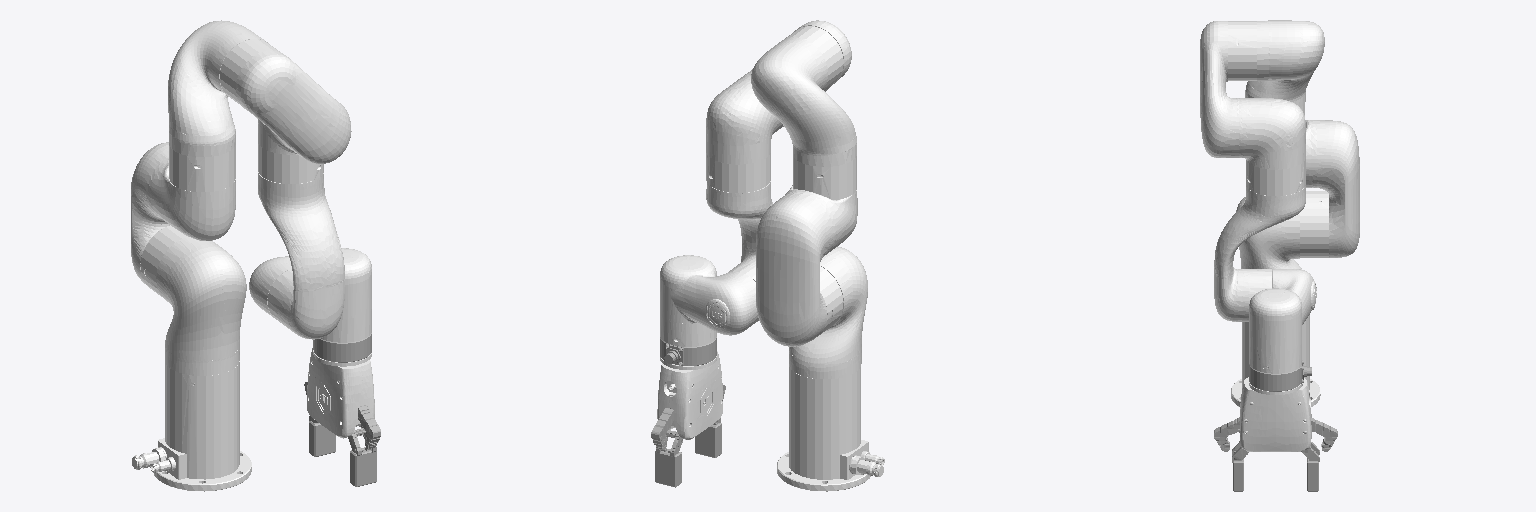
The robot description file, URDF, robot "UF_ROBOT":
<robot name="UF_ROBOT">
  
  <material name="Black">
    <color rgba="0.0 0.0 0.0 1.0" />
  </material>
  <material name="Red">
    <color rgba="0.8 0.0 0.0 1.0" />
  </material>
  <material name="White">
    <color rgba="1.0 1.0 1.0 1.0" />
  </material>
  <material name="Silver">
    <color rgba="0.753 0.753 0.753 1.0" />
  </material>
  <link name="world" />
  <joint name="world_joint" type="fixed">
    <parent link="world" />
    <child link="link_base" />
    <origin rpy="0 0 0" xyz="0 0 0" />
  </joint>
  <link name="link_base">
    <inertial>
      <origin rpy="0 0 0" xyz="-0.021131 -0.0016302 0.056488" />
      <mass value="0.88556" />
      <inertia ixx="0.0030595" ixy="0.00012259" ixz="-0.00062705" iyy="0.0037783" iyz="0.00027023" izz="0.0020125" />
    </inertial>
    <visual>
      <geometry>
        <mesh filename="urdf_assets/xarm_description/meshes/xarm7/visual/link_base.stl" />
      </geometry>
      <origin rpy="0 0 0" xyz="0 0 0" />
      <material name="White" />
    </visual>
    <collision>
      <geometry>
        <mesh filename="urdf_assets/xarm_description/meshes/xarm7/collision/link_base.obj" />
      </geometry>
      <origin rpy="0 0 0" xyz="0 0 0" />
    </collision>
  </link>
  <link name="link1">
    <inertial>
      <origin rpy="0 0 0" xyz="-0.0002 0.02905 -0.01233" />
      <mass value="2.382" />
      <inertia ixx="0.0056905" ixy="-1.579e-05" ixz="5.125e-06" iyy="0.0049566" iyz="-0.000873378" izz="0.003316654" />
    </inertial>
    <visual>
      <geometry>
        <mesh filename="urdf_assets/xarm_description/meshes/xarm7/visual/link1.stl" />
      </geometry>
      <origin rpy="0 0 0" xyz="0 0 0" />
      <material name="White" />
    </visual>
    <collision>
      <geometry>
        <mesh filename="urdf_assets/xarm_description/meshes/xarm7/collision/link1.obj" />
      </geometry>
      <origin rpy="0 0 0" xyz="0 0 0" />
    </collision>
  </link>
  <joint name="joint1" type="revolute">
    <origin rpy="0 0 0" xyz="0 0 0.267" />
    <parent link="link_base" />
    <child link="link1" />
    <axis xyz="0 0 1" />
    <limit effort="50" lower="-6.28318530718" upper="6.28318530718" velocity="3.14" />
    <dynamics damping="10" friction="1" />
  </joint>
  <link name="link2">
    <inertial>
      <origin rpy="0 0 0" xyz="0.00022 -0.12856 0.01735" />
      <mass value="1.869" />
      <inertia ixx="0.0095989" ixy="1.541e-06" ixz="5.56e-06" iyy="0.00382472" iyz="-0.00317156" izz="0.007565669" />
    </inertial>
    <visual>
      <geometry>
        <mesh filename="urdf_assets/xarm_description/meshes/xarm7/visual/link2.stl" />
      </geometry>
      <origin rpy="0 0 0" xyz="0 0 0" />
      <material name="White" />
    </visual>
    <collision>
      <geometry>
        <mesh filename="urdf_assets/xarm_description/meshes/xarm7/collision/link2.obj" />
      </geometry>
      <origin rpy="0 0 0" xyz="0 0 0" />
    </collision>
  </link>
  <joint name="joint2" type="revolute">
    <origin rpy="-1.5708 0 0" xyz="0 0 0" />
    <parent link="link1" />
    <child link="link2" />
    <axis xyz="0 0 1" />
    <limit effort="50" lower="-2.059" upper="2.0944" velocity="3.14" />
    <dynamics damping="10" friction="1" />
  </joint>
  <link name="link3">
    <inertial>
      <origin rpy="0 0 0" xyz="0.0466 -0.02463 -0.00768" />
      <mass value="1.6383" />
      <inertia ixx="0.00310955" ixy="0.00030837" ixz="-0.00058453" iyy="0.00264483" iyz="0.000338893" izz="0.0026624" />
    </inertial>
    <visual>
      <geometry>
        <mesh filename="urdf_assets/xarm_description/meshes/xarm7/visual/link3.stl" />
      </geometry>
      <origin rpy="0 0 0" xyz="0 0 0" />
      <material name="White" />
    </visual>
    <collision>
      <geometry>
        <mesh filename="urdf_assets/xarm_description/meshes/xarm7/collision/link3.obj" />
      </geometry>
      <origin rpy="0 0 0" xyz="0 0 0" />
    </collision>
  </link>
  <joint name="joint3" type="revolute">
    <origin rpy="1.5708 0 0" xyz="0 -0.293 0" />
    <parent link="link2" />
    <child link="link3" />
    <axis xyz="0 0 1" />
    <limit effort="30" lower="-6.28318530718" upper="6.28318530718" velocity="3.14" />
    <dynamics damping="5" friction="1" />
  </joint>
  <link name="link4">
    <inertial>
      <origin rpy="0 0 0" xyz="0.07047 -0.11575 0.012" />
      <mass value="1.7269" />
      <inertia ixx="0.005889" ixy="0.00137112" ixz="0.00088143" iyy="0.00359703" iyz="-0.001762155" izz="0.00543244" />
    </inertial>
    <visual>
      <geometry>
        <mesh filename="urdf_assets/xarm_description/meshes/xarm7/visual/link4.stl" />
      </geometry>
      <origin rpy="0 0 0" xyz="0 0 0" />
      <material name="White" />
    </visual>
    <collision>
      <geometry>
        <mesh filename="urdf_assets/xarm_description/meshes/xarm7/collision/link4.obj" />
      </geometry>
      <origin rpy="0 0 0" xyz="0 0 0" />
    </collision>
  </link>
  <joint name="joint4" type="revolute">
    <origin rpy="1.5708 0 0" xyz="0.0525 0 0" />
    <parent link="link3" />
    <child link="link4" />
    <axis xyz="0 0 1" />
    <limit effort="30" lower="-0.19198" upper="3.927" velocity="3.14" />
    <dynamics damping="5" friction="1" />
  </joint>
  <link name="link5">
    <inertial>
      <origin rpy="0 0 0" xyz="-0.00032 0.01604 -0.026" />
      <mass value="1.3203" />
      <inertia ixx="0.00534665" ixy="1.5117e-05" ixz="-3.69e-07" iyy="0.0049779" iyz="-0.00022132" izz="0.0013624" />
    </inertial>
    <visual>
      <geometry>
        <mesh filename="urdf_assets/xarm_description/meshes/xarm7/visual/link5.stl" />
      </geometry>
      <origin rpy="0 0 0" xyz="0 0 0" />
      <material name="White" />
    </visual>
    <collision>
      <geometry>
        <mesh filename="urdf_assets/xarm_description/meshes/xarm7/collision/link5.obj" />
      </geometry>
      <origin rpy="0 0 0" xyz="0 0 0" />
    </collision>
  </link>
  <joint name="joint5" type="revolute">
    <origin rpy="1.5708 0 0" xyz="0.0775 -0.3425 0" />
    <parent link="link4" />
    <child link="link5" />
    <axis xyz="0 0 1" />
    <limit effort="30" lower="-6.28318530718" upper="6.28318530718" velocity="3.14" />
    <dynamics damping="5" friction="1" />
  </joint>
  <link name="link6">
    <inertial>
      <origin rpy="0 0 0" xyz="0.06469 0.03278 0.02141" />
      <mass value="1.325" />
      <inertia ixx="0.0014745" ixy="-0.000488" ixz="0.0002953" iyy="0.0019037" iyz="0.00014749" izz="0.0023652" />
    </inertial>
    <visual>
      <geometry>
        <mesh filename="urdf_assets/xarm_description/meshes/xarm7/visual/link6.stl" />
      </geometry>
      <origin rpy="0 0 0" xyz="0 0 0" />
      <material name="White" />
    </visual>
    <collision>
      <geometry>
        <mesh filename="urdf_assets/xarm_description/meshes/xarm7/collision/link6.obj" />
      </geometry>
      <origin rpy="0 0 0" xyz="0 0 0" />
    </collision>
  </link>
  <joint name="joint6" type="revolute">
    <origin rpy="1.5708 0 0" xyz="0 0 0" />
    <parent link="link5" />
    <child link="link6" />
    <axis xyz="0 0 1" />
    <limit effort="20" lower="-1.69297" upper="3.14159265359" velocity="3.14" />
    <dynamics damping="2" friction="1" />
  </joint>
  <link name="link7">
    <inertial>
      <origin rpy="0 0 0" xyz="0 -0.00677 -0.01098" />
      <mass value="0.17" />
      <inertia ixx="9.3e-05" ixy="-0.0" ixz="-0.0" iyy="5.87e-05" iyz="-3.6e-06" izz="0.000132" />
    </inertial>
    <visual>
      <geometry>
        <mesh filename="urdf_assets/xarm_description/meshes/xarm7/visual/link7.stl" />
      </geometry>
      <origin rpy="0 0 0" xyz="0 0 0" />
      <material name="Silver" />
    </visual>
    <collision>
      <geometry>
        <mesh filename="urdf_assets/xarm_description/meshes/xarm7/collision/link7.obj" />
      </geometry>
      <origin rpy="0 0 0" xyz="0 0 0" />
    </collision>
  </link>
  <joint name="joint7" type="revolute">
    <origin rpy="-1.5708 0 0" xyz="0.076 0.097 0" />
    <parent link="link6" />
    <child link="link7" />
    <axis xyz="0 0 1" />
    <limit effort="20" lower="-6.28318530718" upper="6.28318530718" velocity="3.14" />
    <dynamics damping="2" friction="1" />
  </joint>
  
  <transmission name="tran1">
    <type>transmission_interface/SimpleTransmission</type>
    <joint name="joint1">
      <hardwareInterface>hardware_interface/PositionJointInterface</hardwareInterface>
    </joint>
    <actuator name="motor1">
      <hardwareInterface>hardware_interface/PositionJointInterface</hardwareInterface>
      <mechanicalReduction>100</mechanicalReduction>
    </actuator>
  </transmission>
  <transmission name="tran2">
    <type>transmission_interface/SimpleTransmission</type>
    <joint name="joint2">
      <hardwareInterface>hardware_interface/PositionJointInterface</hardwareInterface>
    </joint>
    <actuator name="motor2">
      <hardwareInterface>hardware_interface/PositionJointInterface</hardwareInterface>
      <mechanicalReduction>100</mechanicalReduction>
    </actuator>
  </transmission>
  <transmission name="tran3">
    <type>transmission_interface/SimpleTransmission</type>
    <joint name="joint3">
      <hardwareInterface>hardware_interface/PositionJointInterface</hardwareInterface>
    </joint>
    <actuator name="motor3">
      <hardwareInterface>hardware_interface/PositionJointInterface</hardwareInterface>
      <mechanicalReduction>100</mechanicalReduction>
    </actuator>
  </transmission>
  <transmission name="tran4">
    <type>transmission_interface/SimpleTransmission</type>
    <joint name="joint4">
      <hardwareInterface>hardware_interface/PositionJointInterface</hardwareInterface>
    </joint>
    <actuator name="motor4">
      <hardwareInterface>hardware_interface/PositionJointInterface</hardwareInterface>
      <mechanicalReduction>100</mechanicalReduction>
    </actuator>
  </transmission>
  <transmission name="tran5">
    <type>transmission_interface/SimpleTransmission</type>
    <joint name="joint5">
      <hardwareInterface>hardware_interface/PositionJointInterface</hardwareInterface>
    </joint>
    <actuator name="motor5">
      <hardwareInterface>hardware_interface/PositionJointInterface</hardwareInterface>
      <mechanicalReduction>100</mechanicalReduction>
    </actuator>
  </transmission>
  <transmission name="tran6">
    <type>transmission_interface/SimpleTransmission</type>
    <joint name="joint6">
      <hardwareInterface>hardware_interface/PositionJointInterface</hardwareInterface>
    </joint>
    <actuator name="motor6">
      <hardwareInterface>hardware_interface/PositionJointInterface</hardwareInterface>
      <mechanicalReduction>100</mechanicalReduction>
    </actuator>
  </transmission>
  <transmission name="tran7">
    <type>transmission_interface/SimpleTransmission</type>
    <joint name="joint7">
      <hardwareInterface>hardware_interface/PositionJointInterface</hardwareInterface>
    </joint>
    <actuator name="motor7">
      <hardwareInterface>hardware_interface/PositionJointInterface</hardwareInterface>
      <mechanicalReduction>100</mechanicalReduction>
    </actuator>
  </transmission>
  <gazebo reference="link_base">
    <selfCollide>true</selfCollide>
  </gazebo>
  <gazebo reference="link1">
    <selfCollide>true</selfCollide>
  </gazebo>
  <gazebo reference="link2">
    <selfCollide>true</selfCollide>
  </gazebo>
  <gazebo reference="link3">
    <selfCollide>true</selfCollide>
  </gazebo>
  <gazebo reference="link4">
    <selfCollide>true</selfCollide>
  </gazebo>
  <gazebo reference="link5">
    <selfCollide>true</selfCollide>
  </gazebo>
  <gazebo reference="link6">
    <selfCollide>true</selfCollide>
  </gazebo>
  <gazebo reference="link7">
    <selfCollide>true</selfCollide>
  </gazebo>
  <link name="link_eef" />
  
  <joint name="joint_eef" type="fixed">
    <origin rpy="0 0 0" xyz="0 0 0" />
    <parent link="link7" />
    <child link="link_eef" />
  </joint>
  
  <joint name="gripper_fix" type="fixed">
    <parent link="link_eef" />
    <child link="xarm_gripper_base_link" />
    <origin rpy="0 0 0" xyz="0 0 0" />
  </joint>
  <link name="xarm_gripper_base_link">
    <inertial>
      <origin rpy="0 0 0" xyz="-0.00065489 -0.0018497 0.048028" />
      <mass value="0.54156" />
      <inertia ixx="0.00047106" ixy="3.9292E-07" ixz="2.6537E-06" iyy="0.00033072" iyz="-1.0975E-05" izz="0.00025642" />
    </inertial>
    <visual>
      <geometry>
        <mesh filename="urdf_assets/xarm_gripper/meshes/base_link.stl" />
      </geometry>
      <origin rpy="0 0 0" xyz="0 0 0" />
      <material name="White" />
    </visual>
    <collision>
      <geometry>
        <mesh filename="urdf_assets/xarm_gripper/meshes/base_link.stl" />
      </geometry>
      <origin rpy="0 0 0" xyz="0 0 0" />
    </collision>
  </link>
  <link name="left_outer_knuckle">
    <inertial>
      <origin rpy="0 0 0" xyz="2.9948E-14 0.021559 0.015181" />
      <mass value="0.033618" />
      <inertia ixx="1.9111E-05" ixy="-1.8803E-17" ixz="-1.1002E-17" iyy="6.6256E-06" iyz="-7.3008E-06" izz="1.3185E-05" />
    </inertial>
    <visual>
      <geometry>
        <mesh filename="urdf_assets/xarm_gripper/meshes/left_outer_knuckle.stl" />
      </geometry>
      <origin rpy="0 0 0" xyz="0 0 0" />
      <material name="Silver" />
    </visual>
    <collision>
      <geometry>
        <mesh filename="urdf_assets/xarm_gripper/meshes/left_outer_knuckle.stl" />
      </geometry>
      <origin rpy="0 0 0" xyz="0 0 0" />
    </collision>
  </link>
  
  <joint name="drive_joint" type="revolute">
    <origin rpy="0 0 0" xyz="0 0.035 0.059098" />
    <parent link="xarm_gripper_base_link" />
    <child link="left_outer_knuckle" />
    <axis xyz="1 0 0" />
    <limit effort="50" lower="0" upper="0.85" velocity="2" />
  </joint>
  <link name="left_finger">
    <contact>
      <friction_anchor />
      <stiffness value="30000.0" />
      <damping value="1000.0" />
      <spinning_friction value="0.1" />
      <lateral_friction value="1.0" />
    </contact>
    <inertial>
      <origin rpy="0 0 0" xyz="-2.4536E-14 -0.016413 0.029258" />
      <mass value="0.048304" />
      <inertia ixx="1.7493E-05" ixy="-4.2156E-19" ixz="6.9164E-18" iyy="1.7225E-05" iyz="4.6433E-06" izz="5.1466E-06" />
    </inertial>
    <visual>
      <geometry>
        <mesh filename="urdf_assets/xarm_gripper/meshes/left_finger_large_2.stl" />
      </geometry>
      <origin rpy="0 0 0" xyz="0 0 0" />
      <material name="Silver" />
    </visual>
    <collision>
      <geometry>
        <mesh filename="urdf_assets/xarm_gripper/meshes/left_finger_large_2.stl" />
      </geometry>
      <origin rpy="0 0 0" xyz="0 0 0" />
    </collision>
  </link>
  
  <joint name="left_finger_joint" type="revolute">
    <origin rpy="0 0 0" xyz="0 0.035465 0.042039" />
    <parent link="left_outer_knuckle" />
    <child link="left_finger" />
    <axis xyz="-1 0 0" />
    <limit effort="50" lower="0" upper="0.85" velocity="2" />
    <mimic joint="drive_joint" multiplier="1" offset="0" />
  </joint>
  <link name="left_inner_knuckle">
    <inertial>
      <origin rpy="0 0 0" xyz="1.86600784687907E-06 0.0220467847633621 0.0261334672830885" />
      <mass value="0.0230125781256706" />
      <inertia ixx="6.09490024271906E-06" ixy="6.06651326160071E-11" ixz="7.19102670500635E-11" iyy="6.01955084375188E-06" iyz="-2.75316812991721E-06" izz="5.07862004479903E-06" />
    </inertial>
    <visual>
      <geometry>
        <mesh filename="urdf_assets/xarm_gripper/meshes/left_inner_knuckle.stl" />
      </geometry>
      <origin rpy="0 0 0" xyz="0 0 0" />
      <material name="Silver" />
    </visual>
    <collision>
      <geometry>
        <mesh filename="urdf_assets/xarm_gripper/meshes/left_inner_knuckle.stl" />
      </geometry>
      <origin rpy="0 0 0" xyz="0 0 0" />
    </collision>
  </link>
  
  <joint name="left_inner_knuckle_joint" type="revolute">
    <origin rpy="0 0 0" xyz="0 0.02 0.074098" />
    <parent link="xarm_gripper_base_link" />
    <child link="left_inner_knuckle" />
    <axis xyz="1 0 0" />
    <limit effort="50" lower="0" upper="0.85" velocity="2" />
    <mimic joint="drive_joint" multiplier="1" offset="0" />
  </joint>
  <link name="right_outer_knuckle">
    <inertial>
      <origin rpy="0 0 0" xyz="-3.1669E-14 -0.021559 0.015181" />
      <mass value="0.033618" />
      <inertia ixx="1.9111E-05" ixy="-1.8789E-17" ixz="1.0986E-17" iyy="6.6256E-06" iyz="7.3008E-06" izz="1.3185E-05" />
    </inertial>
    <visual>
      <geometry>
        <mesh filename="urdf_assets/xarm_gripper/meshes/right_outer_knuckle.stl" />
      </geometry>
      <origin rpy="0 0 0" xyz="0 0 0" />
      <material name="Silver" />
    </visual>
    <collision>
      <geometry>
        <mesh filename="urdf_assets/xarm_gripper/meshes/right_outer_knuckle.stl" />
      </geometry>
      <origin rpy="0 0 0" xyz="0 0 0" />
    </collision>
  </link>
  
  <joint name="right_outer_knuckle_joint" type="revolute">
    <origin rpy="0 0 0" xyz="0 -0.035 0.059098" />
    <parent link="xarm_gripper_base_link" />
    <child link="right_outer_knuckle" />
    <axis xyz="-1 0 0" />
    <limit effort="50" lower="0" upper="0.85" velocity="2" />
    <mimic joint="drive_joint" multiplier="1" offset="0" />
  </joint>
  <link name="right_finger">
    <contact>
      <friction_anchor />
      <stiffness value="30000.0" />
      <damping value="1000.0" />
      <spinning_friction value="0.1" />
      <lateral_friction value="1.0" />
    </contact>
    <inertial>
      <origin rpy="0 0 0" xyz="2.5618E-14 0.016413 0.029258" />
      <mass value="0.048304" />
      <inertia ixx="1.7493E-05" ixy="-5.0014E-19" ixz="-7.5079E-18" iyy="1.7225E-05" iyz="-4.6435E-06" izz="5.1466E-06" />
    </inertial>
    <visual>
      <geometry>
        <mesh filename="urdf_assets/xarm_gripper/meshes/right_finger_large_2.stl" />
      </geometry>
      <origin rpy="0 0 0" xyz="0 0 0" />
      <material name="Silver" />
    </visual>
    <collision>
      <geometry>
        <mesh filename="urdf_assets/xarm_gripper/meshes/right_finger_large_2.stl" />
      </geometry>
      <origin rpy="0 0 0" xyz="0 0 0" />
    </collision>
  </link>
  
  <joint name="right_finger_joint" type="revolute">
    <origin rpy="0 0 0" xyz="0 -0.035465 0.042039" />
    <parent link="right_outer_knuckle" />
    <child link="right_finger" />
    <axis xyz="1 0 0" />
    <limit effort="50" lower="0" upper="0.85" velocity="2" />
    <mimic joint="drive_joint" multiplier="1" offset="0" />
  </joint>
  <link name="right_inner_knuckle">
    <inertial>
      <origin rpy="0 0 0" xyz="1.866E-06 -0.022047 0.026133" />
      <mass value="0.023013" />
      <inertia ixx="6.0949E-06" ixy="-6.0665E-11" ixz="7.191E-11" iyy="6.0197E-06" iyz="2.7531E-06" izz="5.0784E-06" />
    </inertial>
    <visual>
      <geometry>
        <mesh filename="urdf_assets/xarm_gripper/meshes/right_inner_knuckle.stl" />
      </geometry>
      <origin rpy="0 0 0" xyz="0 0 0" />
      <material name="Silver" />
    </visual>
    <collision>
      <geometry>
        <mesh filename="urdf_assets/xarm_gripper/meshes/right_inner_knuckle.stl" />
      </geometry>
      <origin rpy="0 0 0" xyz="0 0 0" />
    </collision>
  </link>
  
  <joint name="right_inner_knuckle_joint" type="revolute">
    <origin rpy="0 0 0" xyz="0 -0.02 0.074098" />
    <parent link="xarm_gripper_base_link" />
    <child link="right_inner_knuckle" />
    <axis xyz="-1 0 0" />
    <limit effort="50" lower="0" upper="0.85" velocity="2" />
    <mimic joint="drive_joint" multiplier="1" offset="0" />
  </joint>
  <link name="link_tcp" />
  
  <joint name="joint_tcp" type="fixed">
    <origin rpy="0 0 0" xyz="0 0 0.172" />
    <parent link="xarm_gripper_base_link" />
    <child link="link_tcp" />
  </joint>
  <transmission name="drive_joint_trans">
    <type>transmission_interface/SimpleTransmission</type>
    <joint name="drive_joint">
      <hardwareInterface>hardware_interface/PositionJointInterface</hardwareInterface>
    </joint>
    <actuator name="drive_joint_motor">
      <hardwareInterface>hardware_interface/PositionJointInterface</hardwareInterface>
      <mechanicalReduction>1</mechanicalReduction>
    </actuator>
  </transmission>
  <gazebo reference="xarm_gripper_base_link">
    <selfCollide>false</selfCollide>
  </gazebo>
  <gazebo reference="left_outer_knuckle">
    <selfCollide>false</selfCollide>
  </gazebo>
  <gazebo reference="left_finger">
    <selfCollide>false</selfCollide>
  </gazebo>
  <gazebo reference="left_inner_knuckle">
    <selfCollide>false</selfCollide>
  </gazebo>
  <gazebo reference="right_outer_knuckle">
    <selfCollide>false</selfCollide>
  </gazebo>
  <gazebo reference="right_finger">
    <selfCollide>false</selfCollide>
  </gazebo>
  <gazebo reference="right_inner_knuckle">
    <selfCollide>false</selfCollide>
  </gazebo>
  
  <gazebo>
    <plugin filename="libroboticsgroup_gazebo_mimic_joint_plugin.so" name="left_finger_jointmimic_joint_plugin">
      <joint>drive_joint</joint>
      <mimicJoint>left_finger_joint</mimicJoint>
      <multiplier>1.0</multiplier>
      <offset>0</offset>
      <sensitiveness>0.0</sensitiveness>
      
      <maxEffort>10.0</maxEffort>
    </plugin>
  </gazebo>
  
  <gazebo>
    <plugin filename="libroboticsgroup_gazebo_mimic_joint_plugin.so" name="left_inner_knuckle_jointmimic_joint_plugin">
      <joint>drive_joint</joint>
      <mimicJoint>left_inner_knuckle_joint</mimicJoint>
      <multiplier>1.0</multiplier>
      <offset>0</offset>
      <sensitiveness>0.0</sensitiveness>
      
      <maxEffort>10.0</maxEffort>
    </plugin>
  </gazebo>
  
  <gazebo>
    <plugin filename="libroboticsgroup_gazebo_mimic_joint_plugin.so" name="right_outer_knuckle_jointmimic_joint_plugin">
      <joint>drive_joint</joint>
      <mimicJoint>right_outer_knuckle_joint</mimicJoint>
      <multiplier>1.0</multiplier>
      <offset>0</offset>
      <sensitiveness>0.0</sensitiveness>
      
      <maxEffort>10.0</maxEffort>
    </plugin>
  </gazebo>
  
  <gazebo>
    <plugin filename="libroboticsgroup_gazebo_mimic_joint_plugin.so" name="right_finger_jointmimic_joint_plugin">
      <joint>drive_joint</joint>
      <mimicJoint>right_finger_joint</mimicJoint>
      <multiplier>1.0</multiplier>
      <offset>0</offset>
      <sensitiveness>0.0</sensitiveness>
      
      <maxEffort>10.0</maxEffort>
    </plugin>
  </gazebo>
  
  <gazebo>
    <plugin filename="libroboticsgroup_gazebo_mimic_joint_plugin.so" name="right_inner_knuckle_jointmimic_joint_plugin">
      <joint>drive_joint</joint>
      <mimicJoint>right_inner_knuckle_joint</mimicJoint>
      <multiplier>1.0</multiplier>
      <offset>0</offset>
      <sensitiveness>0.0</sensitiveness>
      
      <maxEffort>10.0</maxEffort>
    </plugin>
  </gazebo>
  <gazebo>
    <plugin filename="libgazebo_ros_control.so" name="gazebo_ros_control">
      <robotNamespace>/xarm</robotNamespace>
      
      <robotSimType>gazebo_ros_control/DefaultRobotHWSim</robotSimType>
      <legacyModeNS>true</legacyModeNS>
      
    </plugin>
  </gazebo>
  
</robot>

--- Render facts (derived) ---
The picture shows the robot from 3 angles, left to right: view 1: azimuth 30°, elevation 25°; view 2: azimuth 150°, elevation 25°; view 3: azimuth 270°, elevation 25°; orthographic projection.
Model UF_ROBOT with 18 links and 17 joints (13 revolute, 4 fixed), rooted at world, posed all joints at 0.
Links seen in each view (by area): view 1: link1, link4, link5, link_base, link3, link2, xarm_gripper_base_link, link6, link7, left_finger, right_finger, left_outer_knuckle; view 2: link2, link3, link_base, link4, link6, link1, xarm_gripper_base_link, link5, link7, right_finger, left_finger, right_outer_knuckle; view 3: link4, link3, link2, link6, link5, xarm_gripper_base_link, link1, link_base, link7.
Link boxes in pixels (<box>): link1: <box>140,225,246,375</box>; link4: <box>236,50,351,183</box>; link5: <box>258,172,344,339</box>; link_base: <box>132,361,251,491</box>; link3: <box>168,20,279,156</box>; link2: <box>131,142,235,283</box>; xarm_gripper_base_link: <box>307,348,374,438</box>; link6: <box>249,248,371,342</box>; link7: <box>313,333,371,362</box>; left_finger: <box>350,447,376,486</box>; right_finger: <box>309,421,335,456</box>; left_outer_knuckle: <box>358,405,380,448</box>; link2: <box>756,156,857,346</box>; link3: <box>751,26,856,166</box>; link_base: <box>777,367,884,491</box>; link4: <box>706,20,851,192</box>; link6: <box>660,255,758,346</box>; link1: <box>789,247,867,378</box>; xarm_gripper_base_link: <box>657,351,722,439</box>; link5: <box>706,180,772,281</box>; link7: <box>660,337,716,365</box>; right_finger: <box>655,448,681,487</box>; left_finger: <box>695,423,721,457</box>; right_outer_knuckle: <box>651,408,673,449</box>; link4: <box>1200,21,1305,195</box>; link3: <box>1228,20,1324,107</box>; link2: <box>1301,104,1359,257</box>; link6: <box>1249,269,1316,373</box>; link5: <box>1214,185,1305,321</box>; xarm_gripper_base_link: <box>1239,377,1311,451</box>; link1: <box>1236,191,1328,287</box>; link_base: <box>1231,315,1320,406</box>; link7: <box>1249,360,1311,391</box>.
Size in the robot's own frame: 0.3358 by 0.2259 by 0.6467 metres.
15 mesh visuals loaded from 15 distinct referenced files (15 binary STL).
